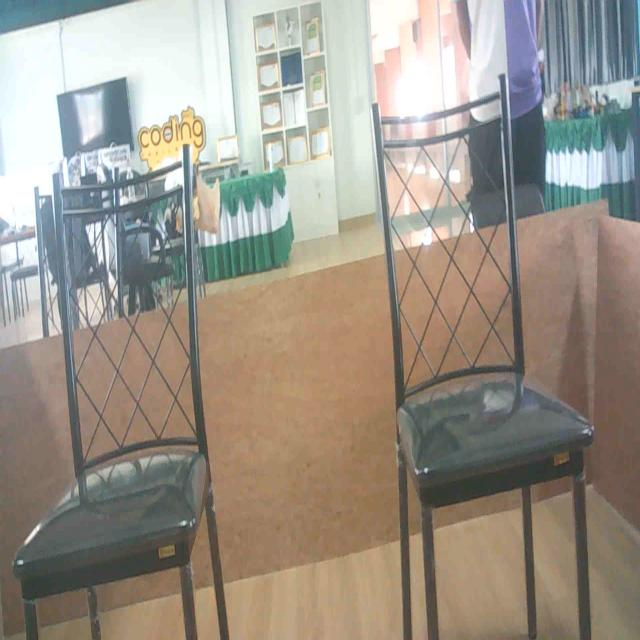empty: (363, 81, 590, 521), (44, 178, 203, 564)
